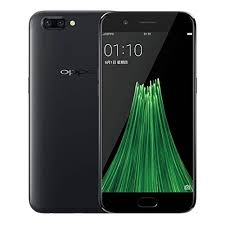oppo: (97, 8, 198, 214), (27, 8, 102, 216)
